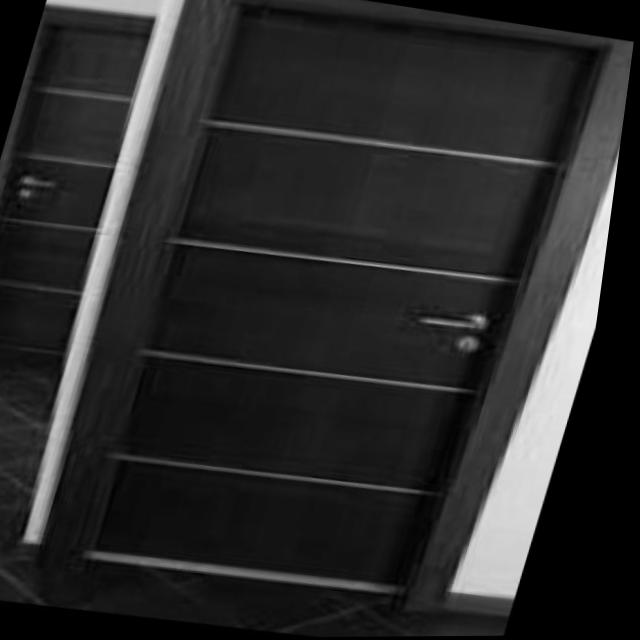door_handle: (412, 303, 505, 349)
